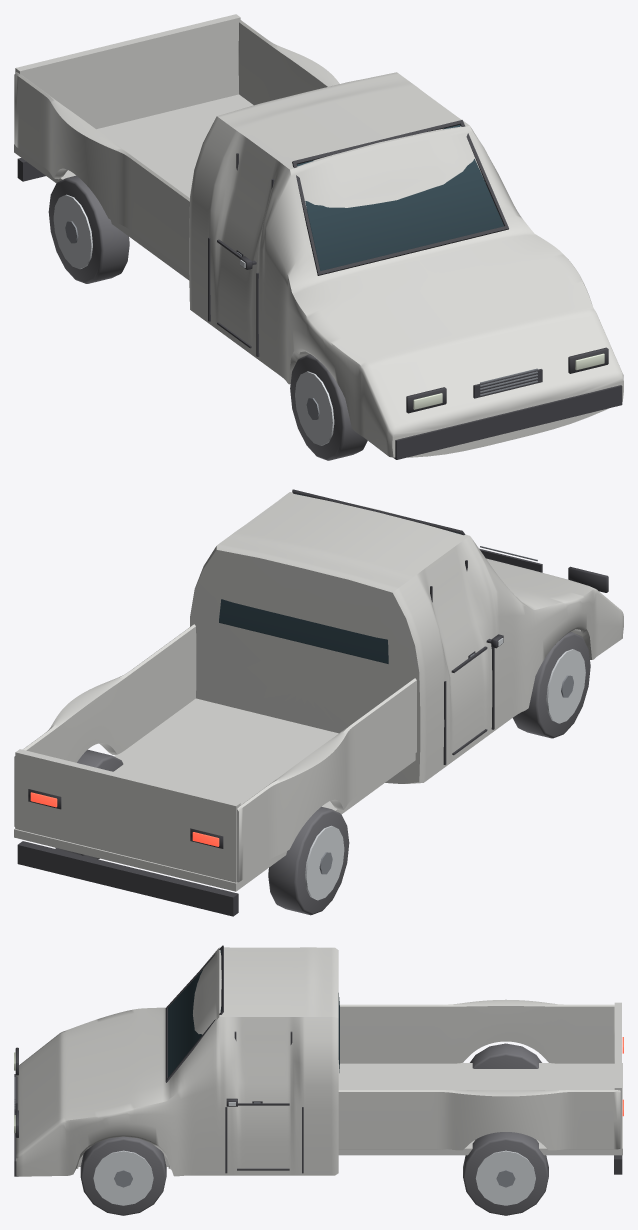
Rendered from Pickup_FullSize_22.fbx.
3 views of the same model, one above another, from view 1: azimuth 30°, elevation 25°; view 2: azimuth 150°, elevation 25°; view 3: azimuth 270°, elevation 25° (orthographic). The views are drawn at different scales.
Visible parts, largest first — view 1: LOD0; view 2: LOD0; view 3: LOD0.
Boxes of the visible parts, x1,y1,x2,y2 form: LOD0: (14, 14, 623, 460); LOD0: (14, 489, 623, 916); LOD0: (14, 945, 623, 1215).
Size of what is drawn, in the model's own units: 200 by 176 by 511.
